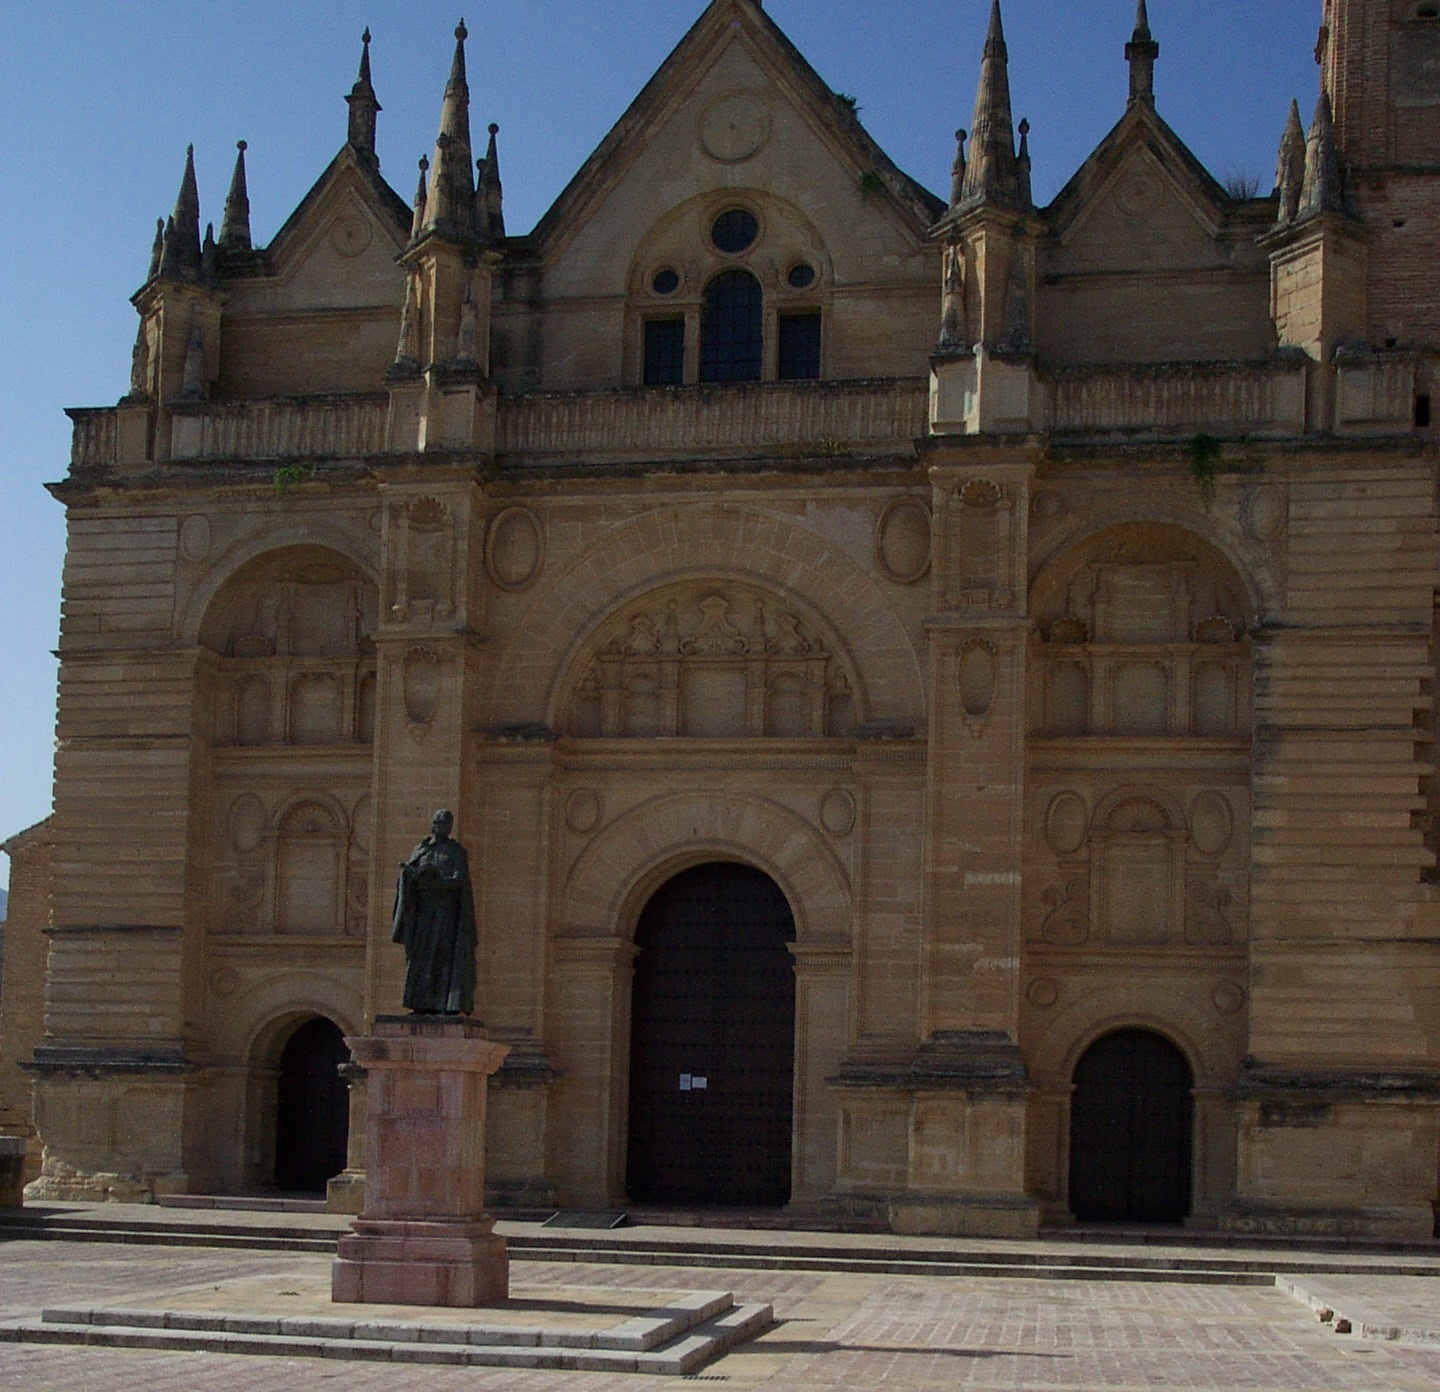arco-medio-punto: (539, 559, 876, 787), (1023, 521, 1265, 665), (600, 833, 805, 994), (189, 533, 382, 665), (1065, 1019, 1212, 1113), (246, 1003, 357, 1089)
ojo-de-buey: (699, 193, 766, 254)
serliana: (631, 245, 831, 395)
